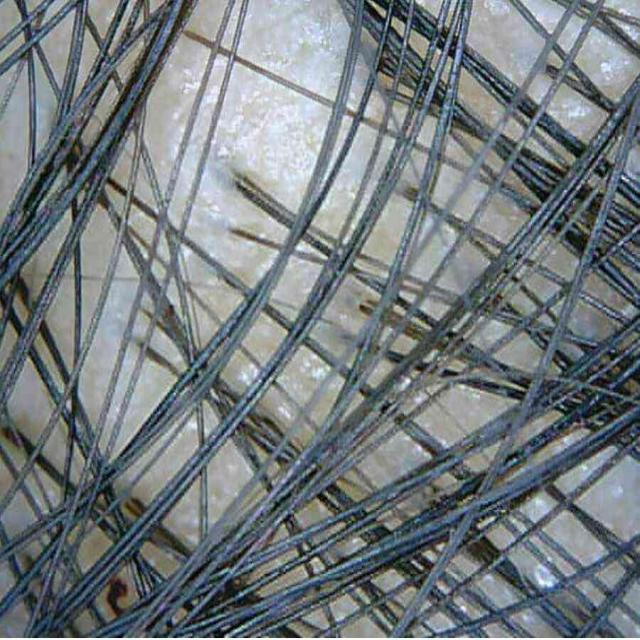ds: (211, 62, 331, 212), (238, 2, 350, 100), (176, 54, 228, 206), (575, 26, 640, 102), (169, 57, 209, 168), (276, 344, 331, 406), (220, 0, 242, 50), (229, 353, 260, 385), (534, 564, 558, 588), (606, 476, 624, 499)
